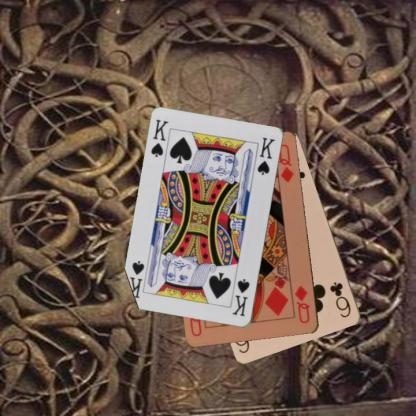6c: (327, 279, 352, 319)
Ks: (148, 117, 170, 159), (230, 276, 251, 318)
Qd: (292, 283, 311, 325)
